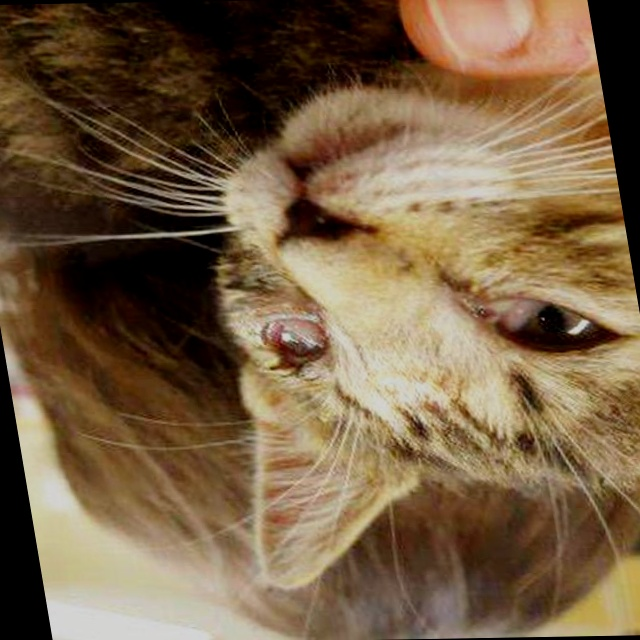eye_infection: (474, 289, 623, 356), (247, 304, 340, 372)
